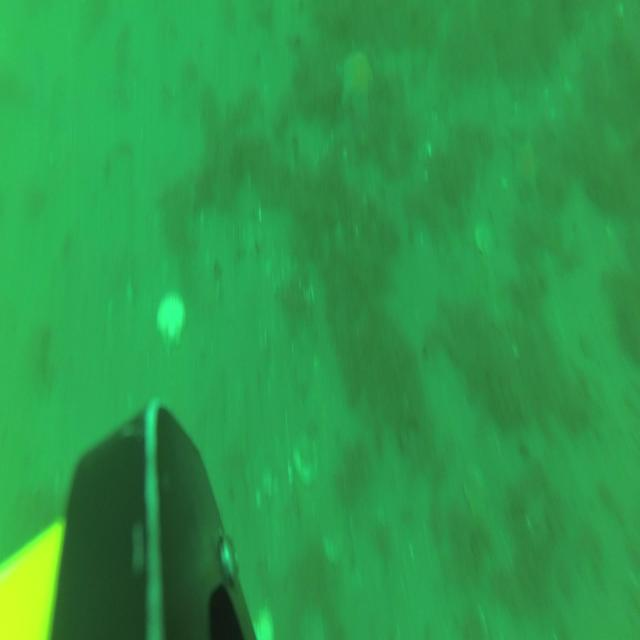scallop: (462, 460, 493, 522), (155, 291, 189, 345), (472, 219, 497, 262)
starfish: (337, 49, 376, 120), (509, 130, 545, 193)
